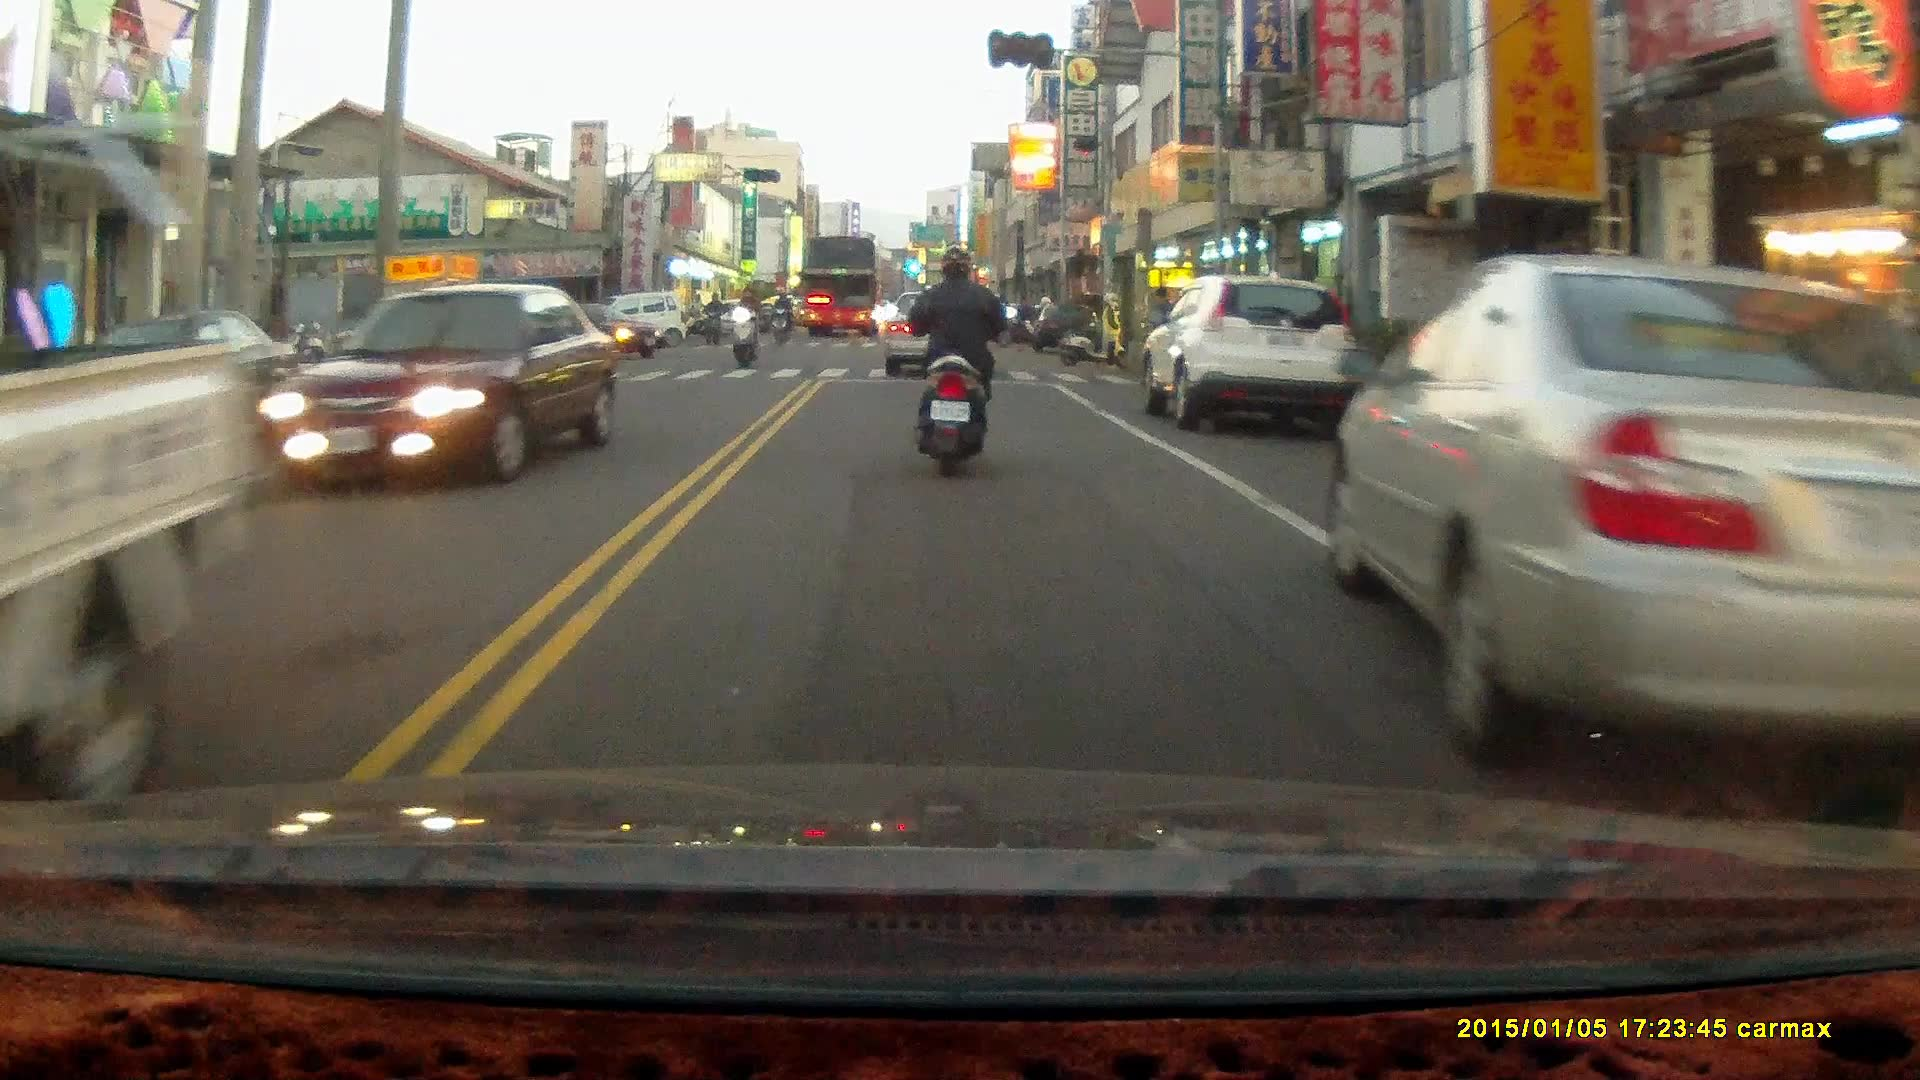pedestrian: (1096, 289, 1123, 370)
rider: (904, 243, 1019, 477), (727, 285, 760, 368), (699, 288, 722, 345), (770, 287, 791, 348)
vehicle: (1331, 250, 1918, 767), (244, 279, 630, 491), (1143, 275, 1351, 430), (798, 235, 884, 340), (882, 294, 985, 378)
